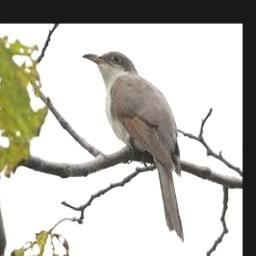Cuckoo: (82, 51, 184, 241)
